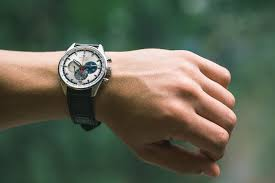clock: (59, 47, 106, 90)
